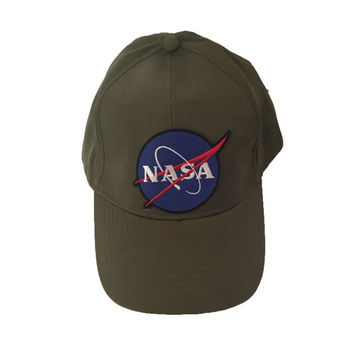NASA: (128, 129, 230, 214)
